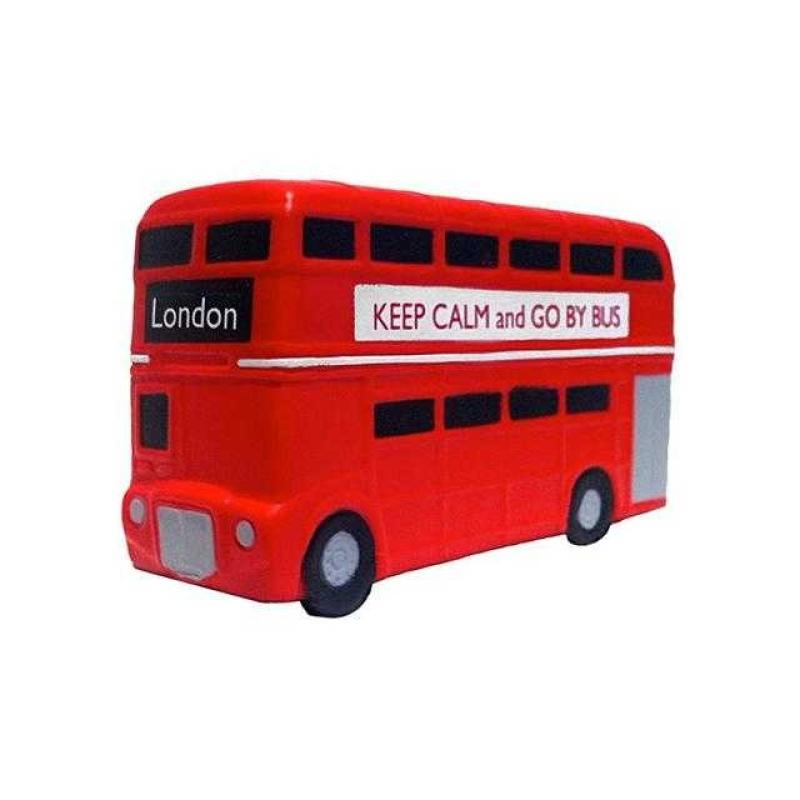bus: (170, 140, 727, 567)
